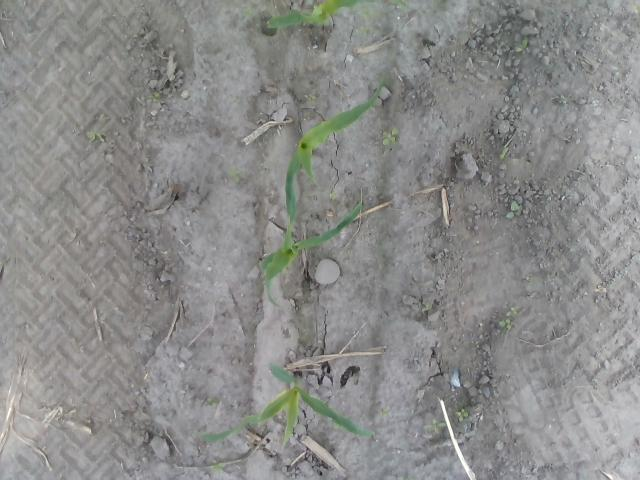Maize: (202, 360, 376, 450), (284, 78, 385, 218), (258, 202, 360, 300), (264, 0, 366, 32)
Weeds: (496, 306, 520, 332), (381, 128, 402, 146), (504, 199, 520, 220), (226, 167, 242, 186), (362, 7, 383, 19), (454, 407, 468, 423), (428, 420, 444, 434), (514, 39, 530, 53), (391, 0, 411, 9), (497, 144, 508, 160), (86, 132, 102, 142), (210, 462, 224, 473), (302, 93, 316, 104), (146, 92, 161, 102), (206, 397, 218, 408), (356, 27, 370, 36), (630, 4, 640, 14), (242, 8, 252, 18), (398, 475, 416, 480), (380, 409, 391, 417), (329, 191, 337, 201)
